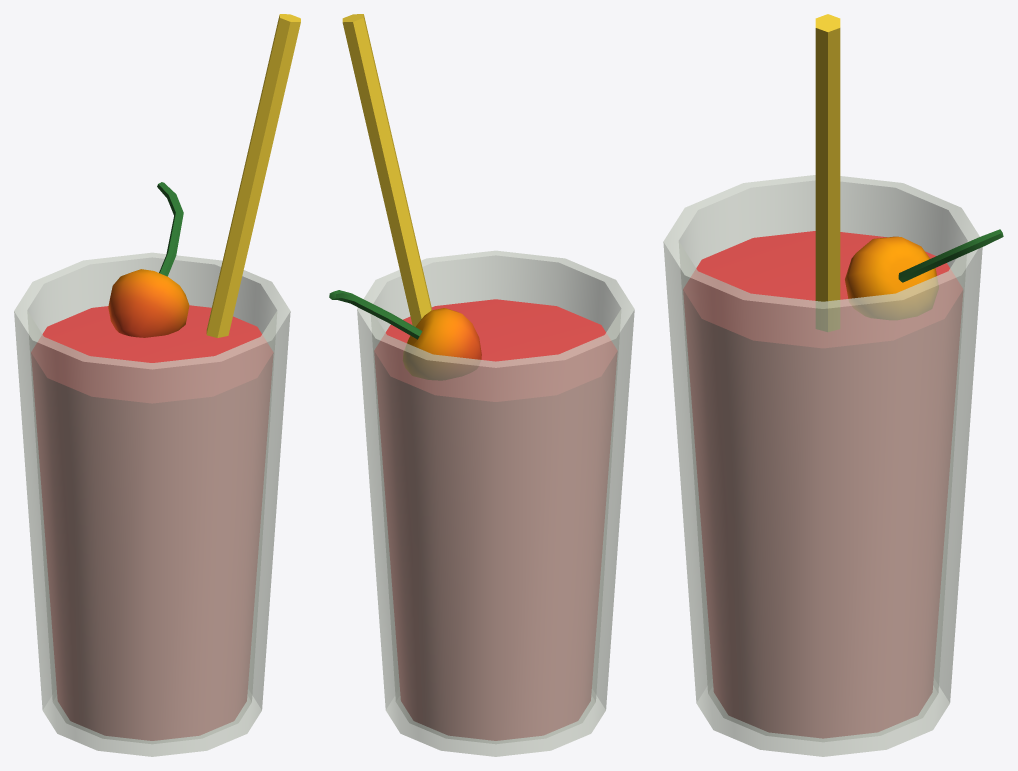
The model's file is Fruit_juice.fbx.
3 views of the same model, side by side, from view 1: azimuth 30°, elevation 25°; view 2: azimuth 150°, elevation 25°; view 3: azimuth 270°, elevation 25° (orthographic). The views are drawn at different scales.
Parts seen in each view (by area): view 1: Fruit_juice; view 2: Fruit_juice; view 3: Fruit_juice.
Part boxes in pixels (<box>): Fruit_juice: <box>14,14,300,756</box>; Fruit_juice: <box>329,14,634,756</box>; Fruit_juice: <box>663,14,1003,756</box>.
Size of the model in its own units: 26.8 by 62.5 by 25.27.
